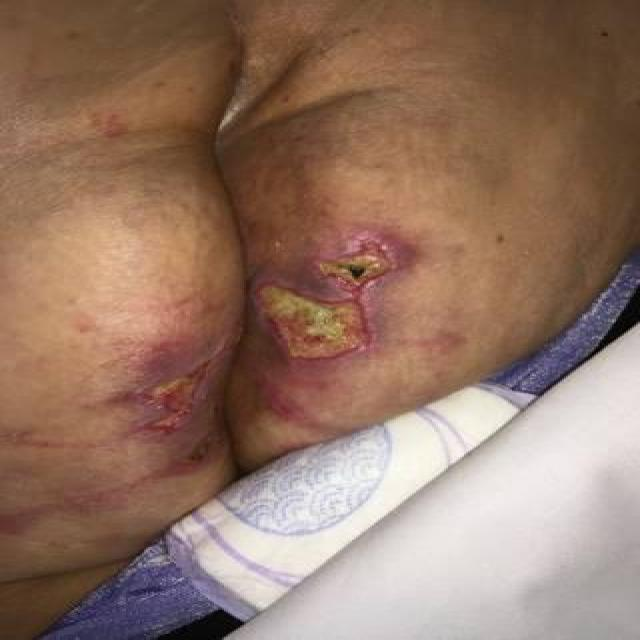Unstageable: (262, 286, 365, 358), (319, 233, 405, 292)
